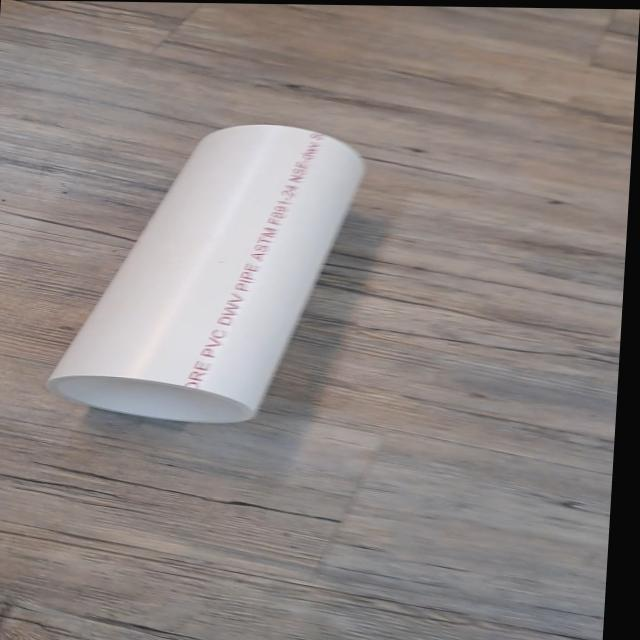CORAL: (25, 112, 383, 435)
